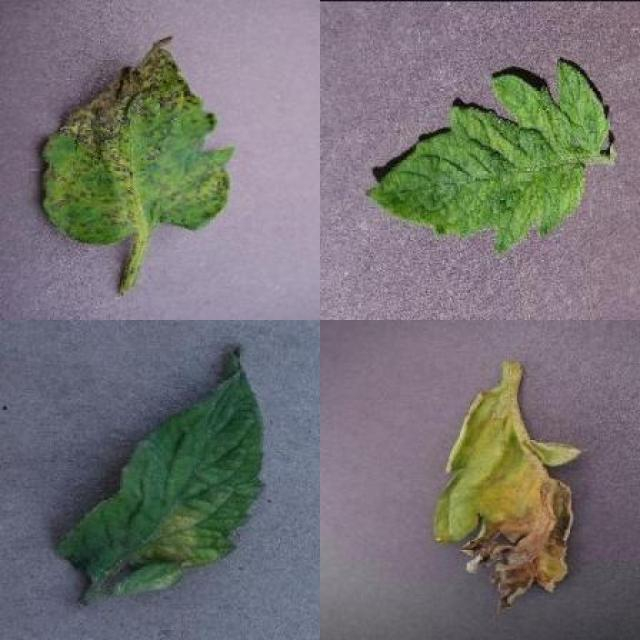Late Blight: (434, 382, 585, 615)
Leaf Mold: (56, 349, 266, 596)
Mosaic Virus: (366, 59, 608, 254)
Septoria: (42, 35, 237, 244)
